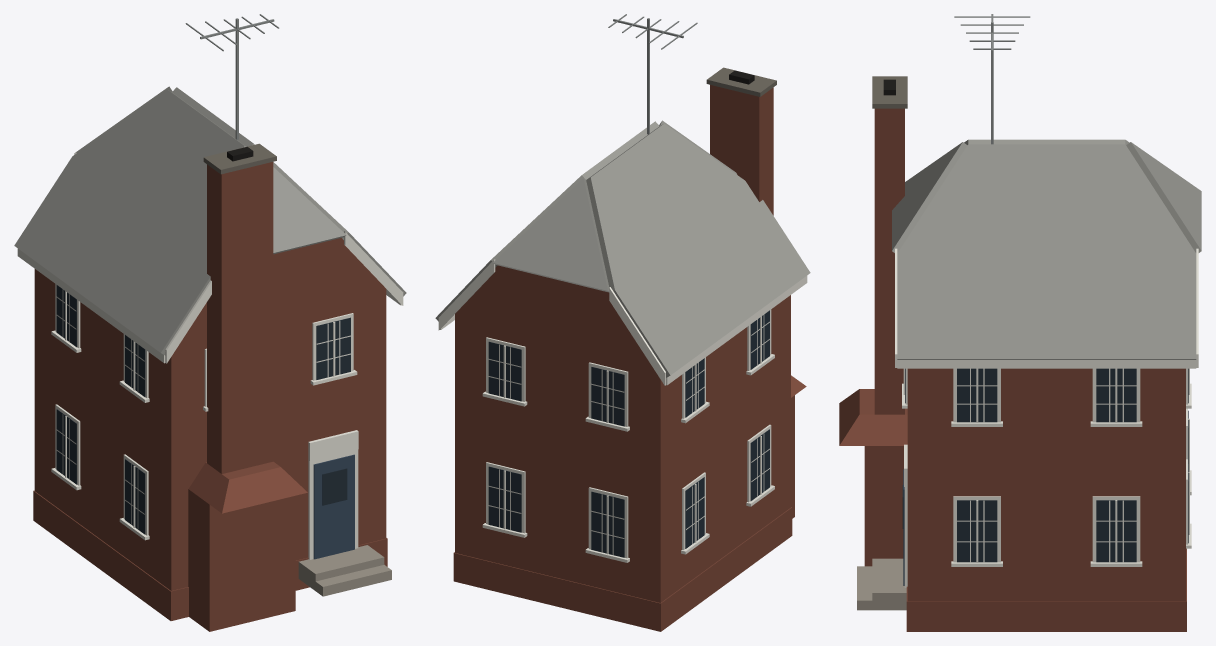
Rendered from brick-tudor-revival-house-0002.glb.
3 renders of one model, left to right at view 1: azimuth 30°, elevation 25°; view 2: azimuth 150°, elevation 25°; view 3: azimuth 270°, elevation 25°, orthographic. The views are drawn at different scales.
Parts seen in each view (by area): view 1: kit-brick-tudor-revival-house-0002; view 2: kit-brick-tudor-revival-house-0002; view 3: kit-brick-tudor-revival-house-0002.
Part boxes in pixels (left/top/right/bottom): kit-brick-tudor-revival-house-0002: left=14, top=14, right=406, bottom=631; kit-brick-tudor-revival-house-0002: left=435, top=14, right=810, bottom=631; kit-brick-tudor-revival-house-0002: left=839, top=14, right=1201, bottom=631.
Size of the model in its own units: 5.72 by 12.11 by 7.16.
